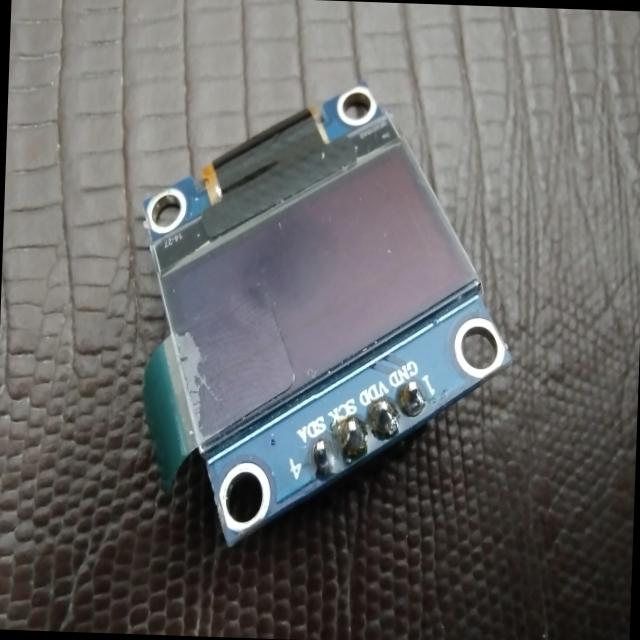oled: (126, 61, 526, 562)
